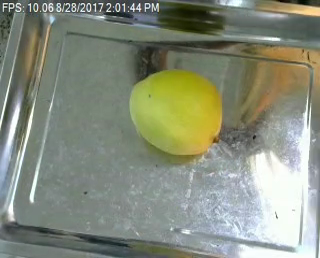Mango: (128, 71, 223, 155)
